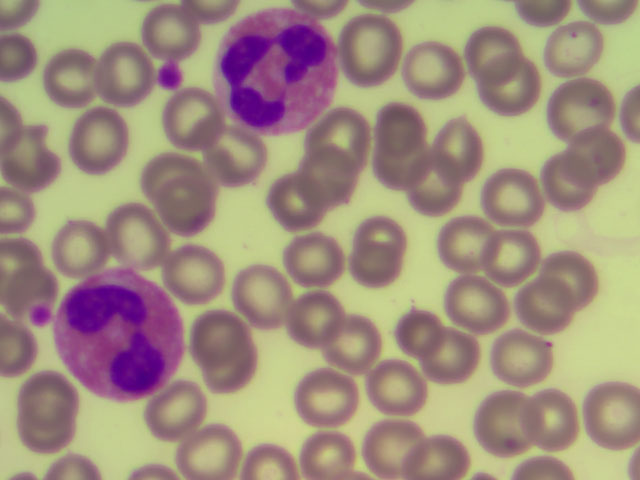Platelets: (160, 63, 182, 90), (27, 307, 53, 329)
RBC: (70, 108, 130, 175), (553, 74, 613, 141), (478, 388, 538, 455), (17, 364, 77, 431), (482, 55, 542, 122), (339, 18, 399, 85), (109, 201, 169, 268), (160, 86, 220, 153), (157, 170, 217, 237), (164, 244, 229, 305), (523, 387, 582, 451), (365, 417, 426, 478), (292, 364, 352, 426), (298, 142, 355, 206), (374, 128, 431, 192), (449, 269, 506, 333), (567, 123, 624, 187), (543, 149, 600, 213), (366, 354, 423, 418), (195, 299, 252, 363), (234, 262, 291, 326), (286, 225, 343, 289), (1, 124, 55, 190), (97, 39, 151, 103), (483, 165, 539, 225), (542, 247, 598, 307), (584, 389, 640, 449), (142, 148, 203, 203), (49, 217, 109, 272), (209, 123, 264, 179), (270, 172, 325, 226), (515, 276, 570, 330), (493, 327, 548, 381), (180, 426, 235, 480), (146, 381, 201, 435), (482, 229, 537, 283), (439, 213, 494, 267), (546, 22, 601, 76), (467, 28, 522, 82), (407, 39, 462, 93), (17, 396, 72, 450), (303, 426, 358, 480), (411, 426, 466, 480), (142, 1, 197, 54), (1, 230, 48, 291), (201, 340, 253, 394), (1, 268, 59, 315), (348, 234, 397, 289), (397, 305, 445, 361), (45, 45, 94, 98), (240, 439, 301, 480), (1, 320, 37, 383), (1, 30, 37, 89), (41, 448, 105, 480), (613, 77, 640, 151), (579, 1, 640, 33), (514, 448, 573, 480), (1, 188, 39, 236), (514, 1, 574, 29), (128, 453, 180, 480), (1, 1, 45, 32), (1, 89, 21, 155), (178, 1, 238, 23), (288, 1, 345, 17), (351, 1, 416, 13)
WBC: (57, 270, 179, 398), (214, 10, 337, 132)
